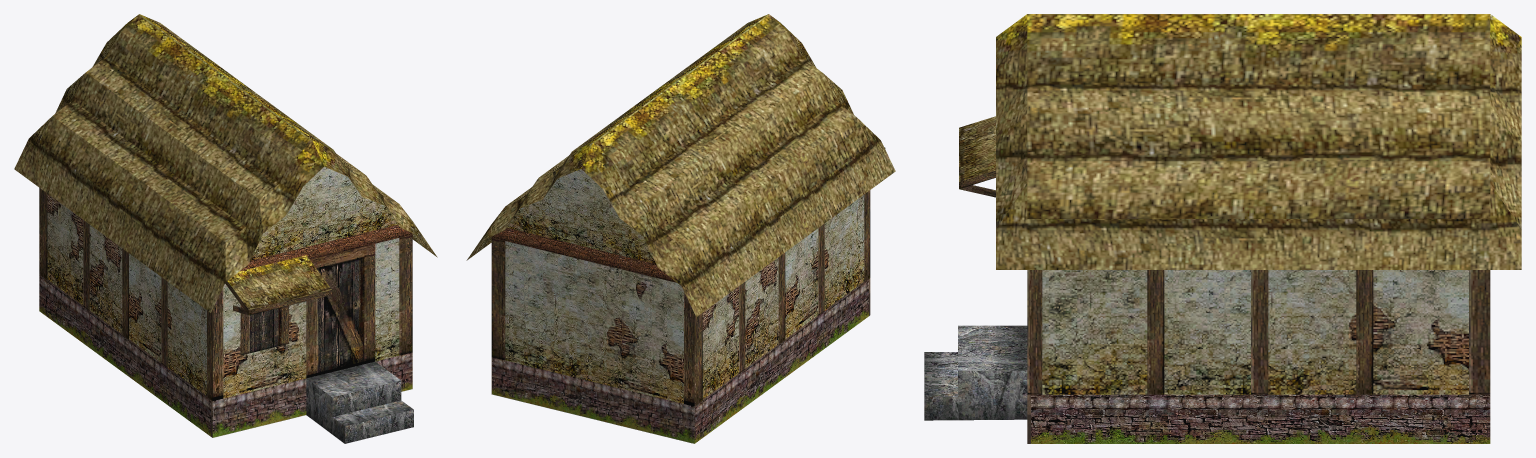
File: celt_house_d.dae
The picture shows the model from 3 angles, left to right: view 1: azimuth 30°, elevation 25°; view 2: azimuth 150°, elevation 25°; view 3: azimuth 270°, elevation 25°; orthographic projection. The views are drawn at different scales.
Parts seen in each view (by area): view 1: default_Pivot; view 2: default_Pivot; view 3: default_Pivot.
Part boxes in pixels (box(x1,y1,x2,y2)): default_Pivot: box(14, 14, 437, 443); default_Pivot: box(466, 14, 895, 443); default_Pivot: box(924, 14, 1521, 443).
Size of the model in its own units: 7.91 by 9.11 by 13.49.
